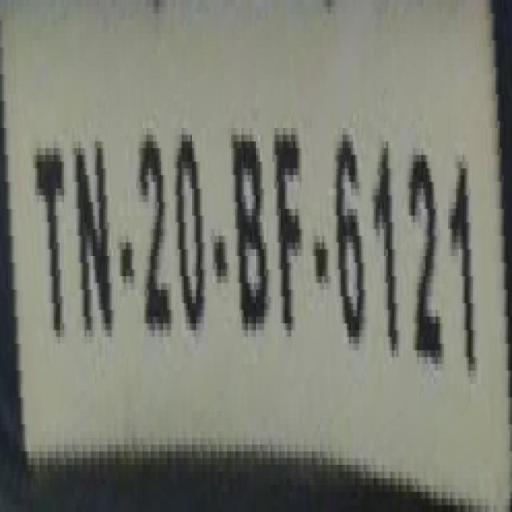number plate: (8, 27, 479, 438)
